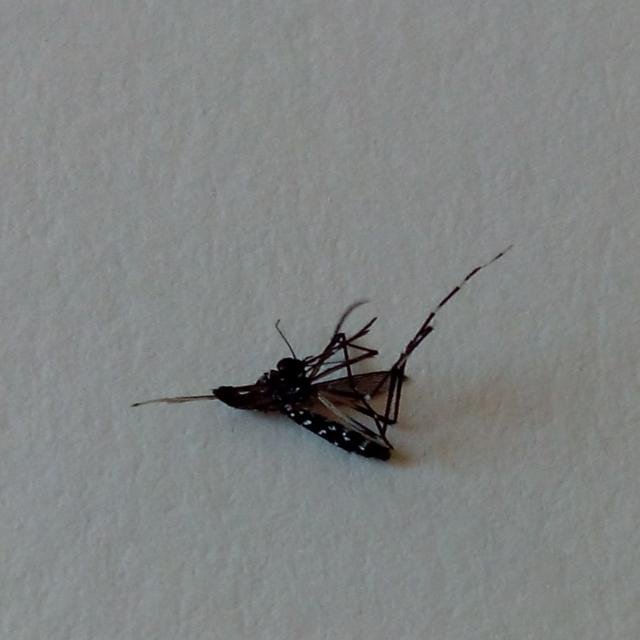albopictus: (127, 230, 517, 468)
